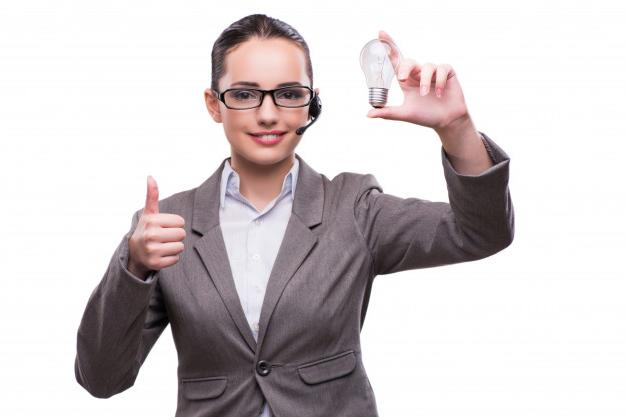thumbsup: (144, 176, 187, 269)
